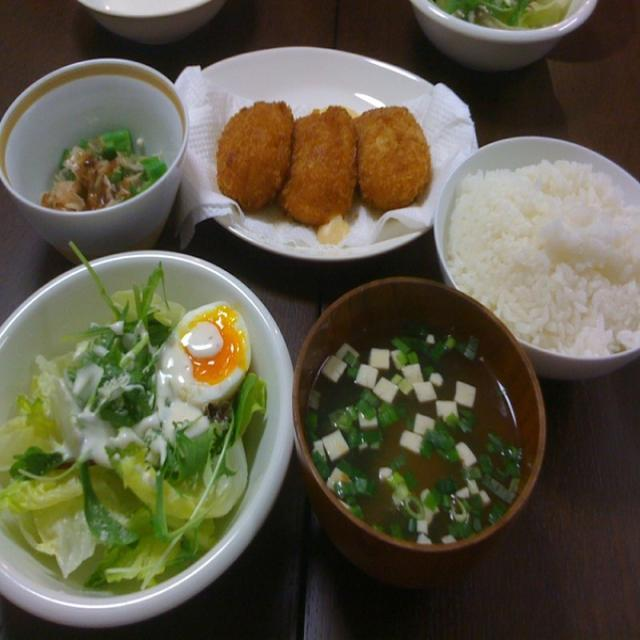Rice: (460, 143, 640, 356)
